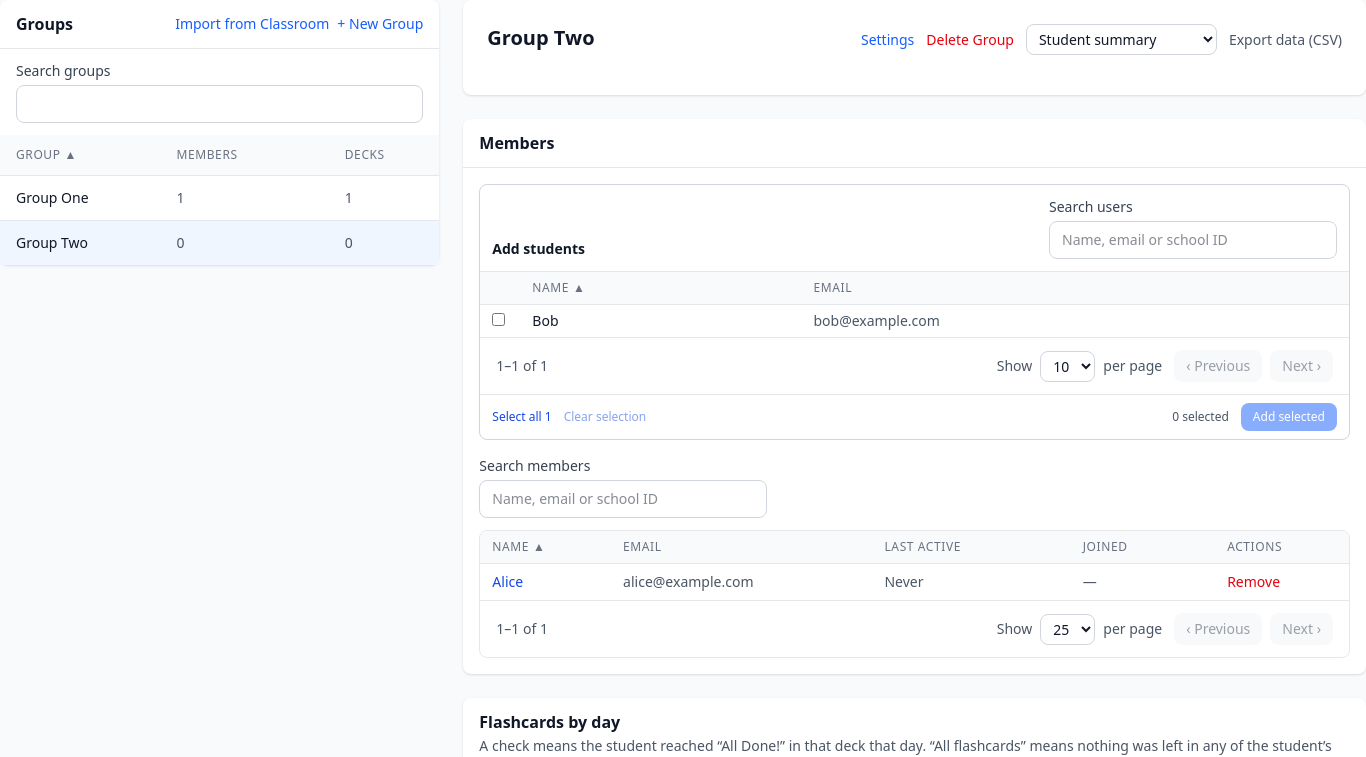
Test case: GroupManager: the group in the URL › opens the group the URL names, and picking one puts it in the URL
expect the heading "Group Two" is shown: met, box [487,24,594,52]
Click the button "Group One" at (52,198), box [16,188,89,208]
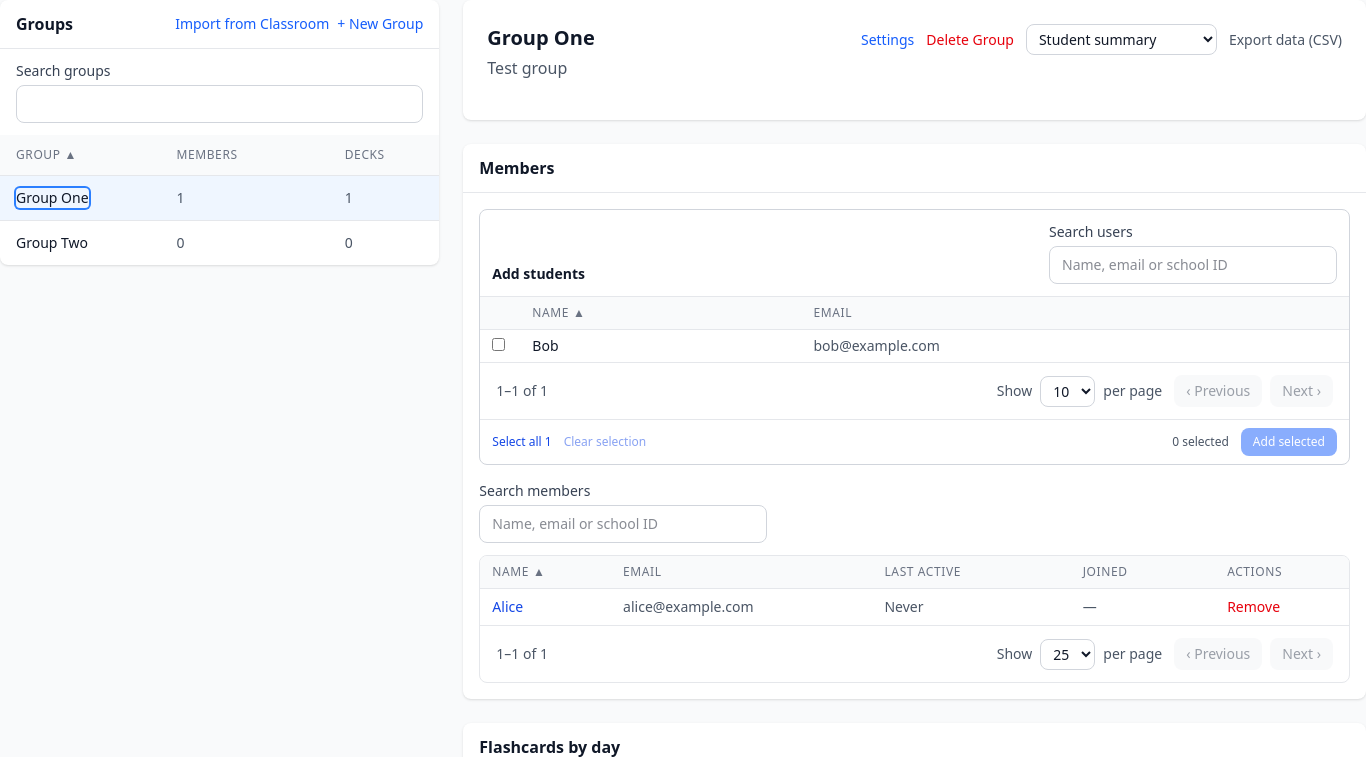
expect the heading "Group One" is shown: met, box [487,24,595,52]
